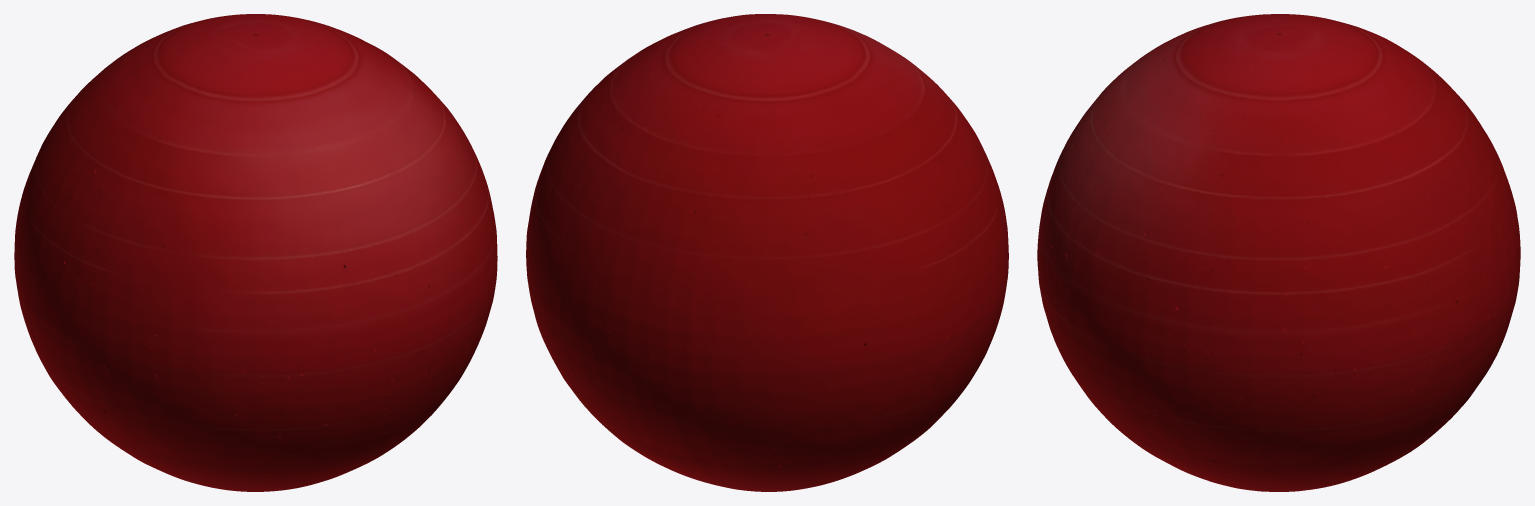
Rendered from red_ball.glb.
The picture shows the model from 3 angles, left to right: view 1: azimuth 30°, elevation 25°; view 2: azimuth 150°, elevation 25°; view 3: azimuth 270°, elevation 25°; orthographic projection.
Parts seen in each view (by area): view 1: world; view 2: world; view 3: world.
Part boxes in pixels (x1=…): world: x1=14, y1=14, x2=497, y2=491; world: x1=526, y1=14, x2=1008, y2=491; world: x1=1037, y1=14, x2=1520, y2=491.
Size of the model in its own units: 1 by 0.9983 by 0.9974.
Materials: 1 (1 with a texture image).
